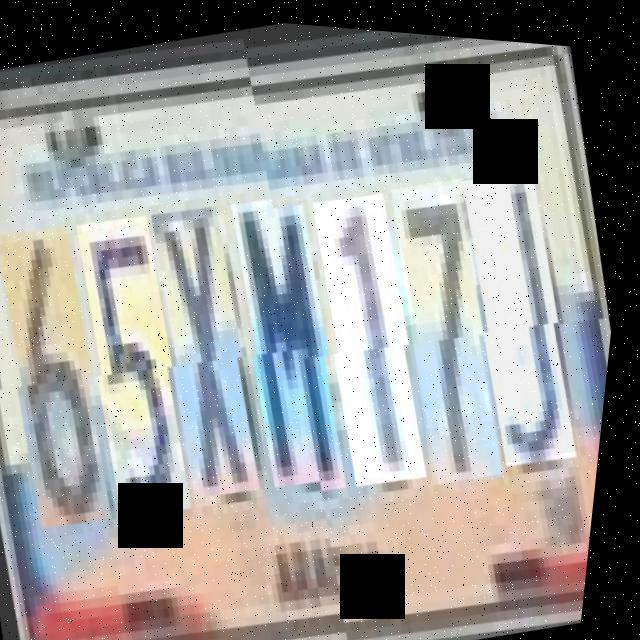1: (292, 176, 460, 483)
5: (58, 213, 230, 530)
6: (0, 225, 150, 543)
7: (371, 165, 538, 481)
J: (441, 152, 610, 460)
M: (213, 189, 381, 496)
X: (133, 203, 297, 509)
